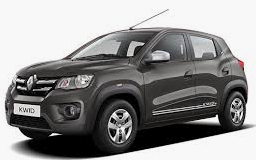car: (3, 27, 249, 155)
